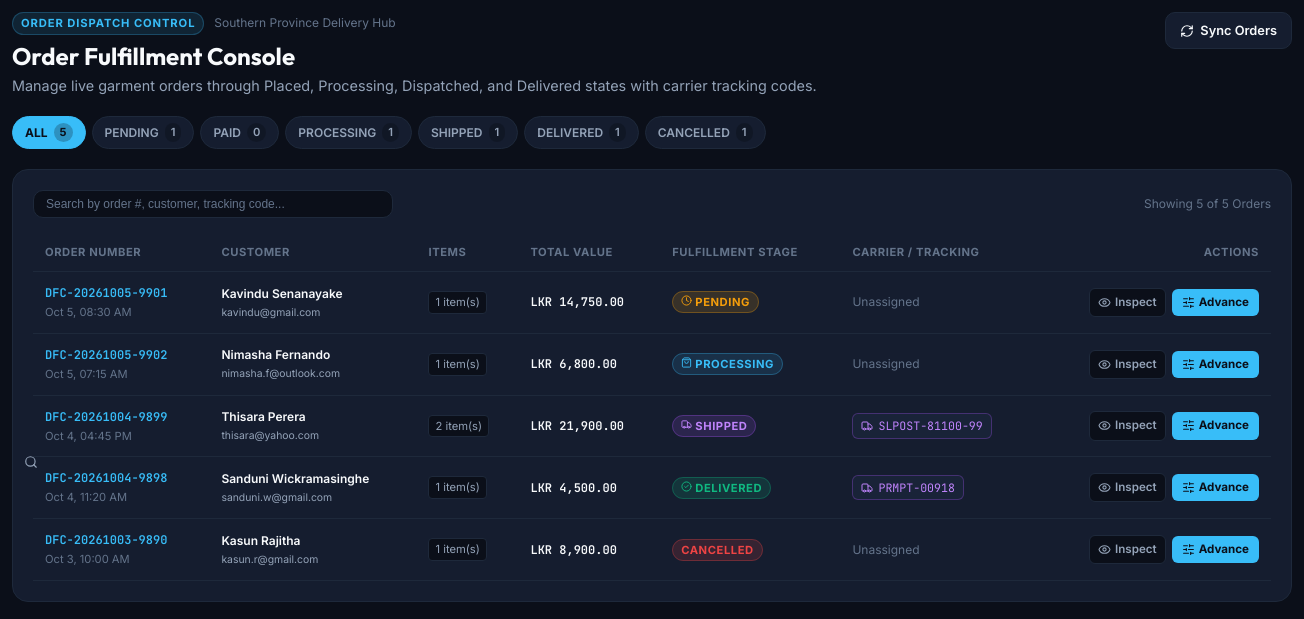
it: STORM-FE-019: Admin Order Fulfillment Console & 30-Day Return Approvals › AC1: Orders Fulfillment Console & Status Filter Pills › filters orders by keyword search
Type "Thisara" into the field with test id "orders-search-input" at (213, 204), box [46,197,380,211]
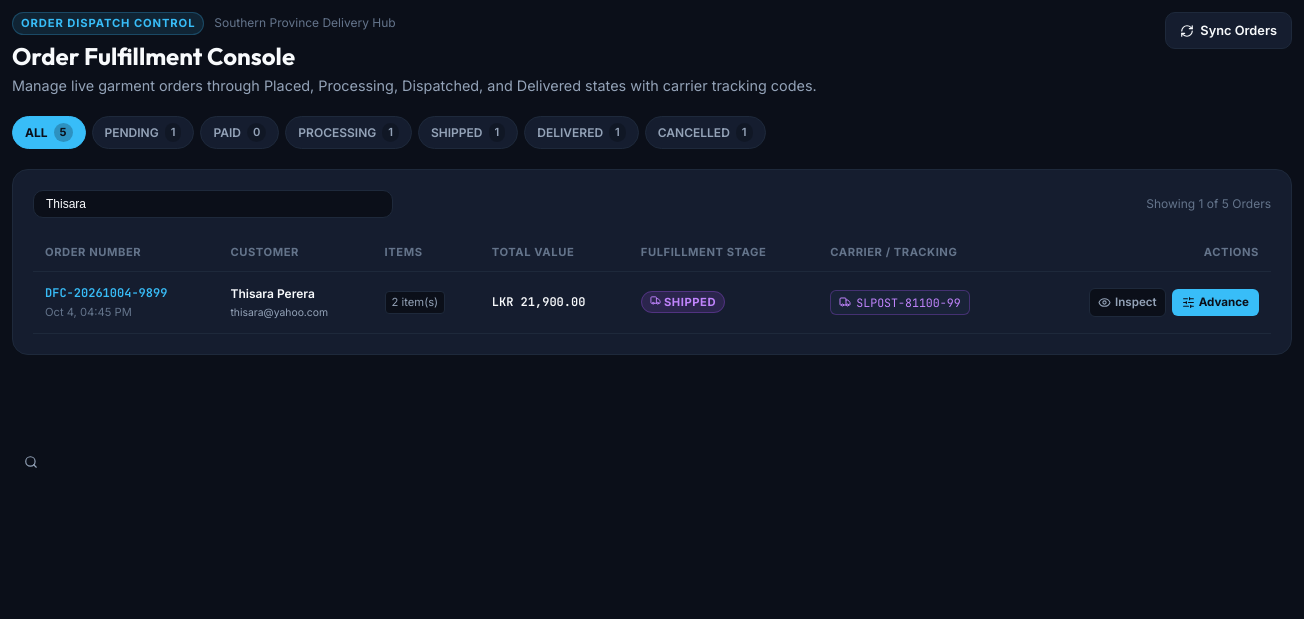
expect the text "Thisara Perera" is shown: met, box [230,286,315,301]
expect the text "Kavindu Senanayake" is gone: met
